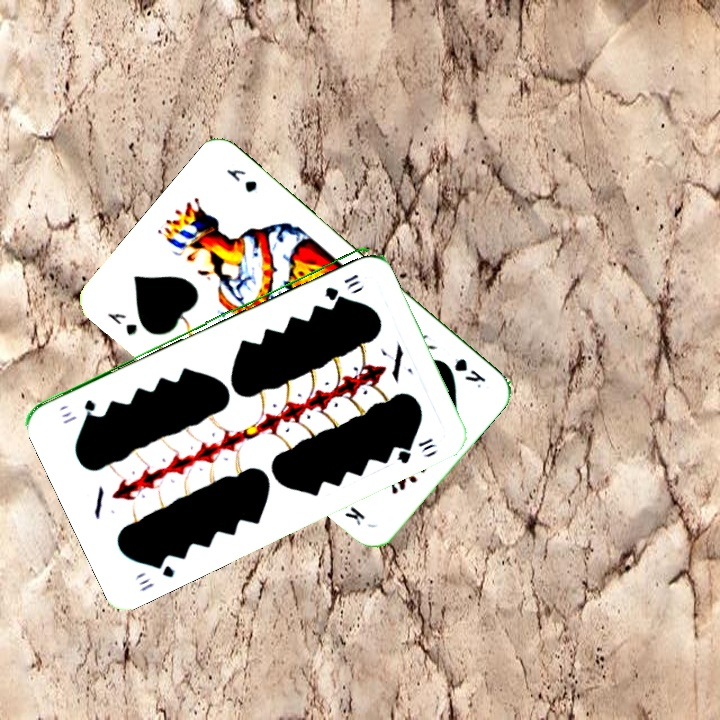G10: (135, 555, 177, 594), (321, 270, 363, 300)
GK: (450, 354, 489, 391), (103, 308, 140, 338)
